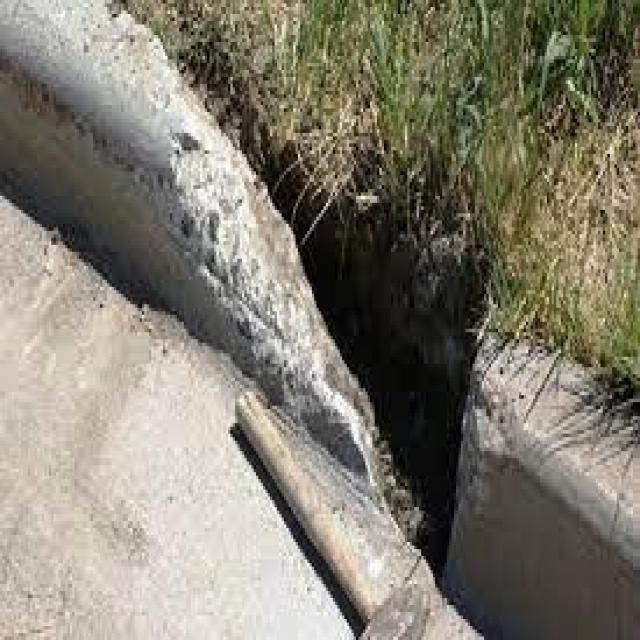curb: (3, 3, 454, 548), (445, 316, 632, 640)
